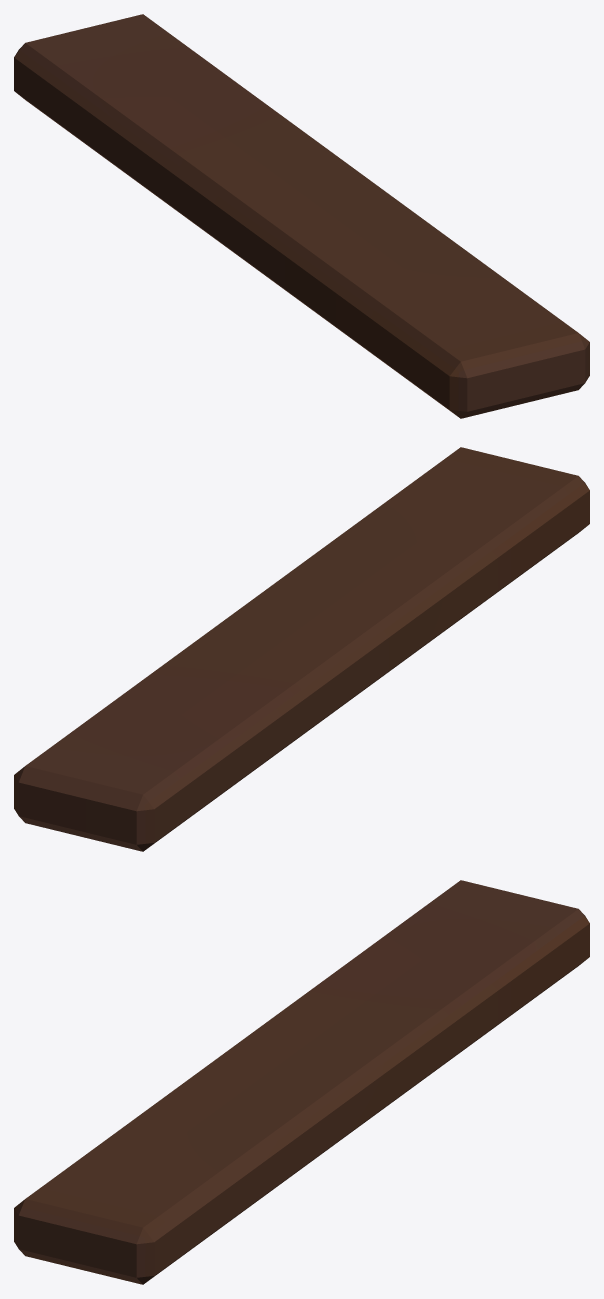
The model's file is Viga.FBX.
The picture shows the model from 3 angles, top to bottom: view 1: azimuth 30°, elevation 25°; view 2: azimuth 150°, elevation 25°; view 3: azimuth 330°, elevation 25°; orthographic projection.
Parts seen in each view (by area): view 1: Viga; view 2: Viga; view 3: Viga.
Part boxes in pixels (x1,y1,x2,y2): Viga: [14, 14, 589, 418]; Viga: [14, 447, 589, 851]; Viga: [14, 880, 589, 1284].
Size of the model in its own units: 12.46 by 4.85 by 68.94.
